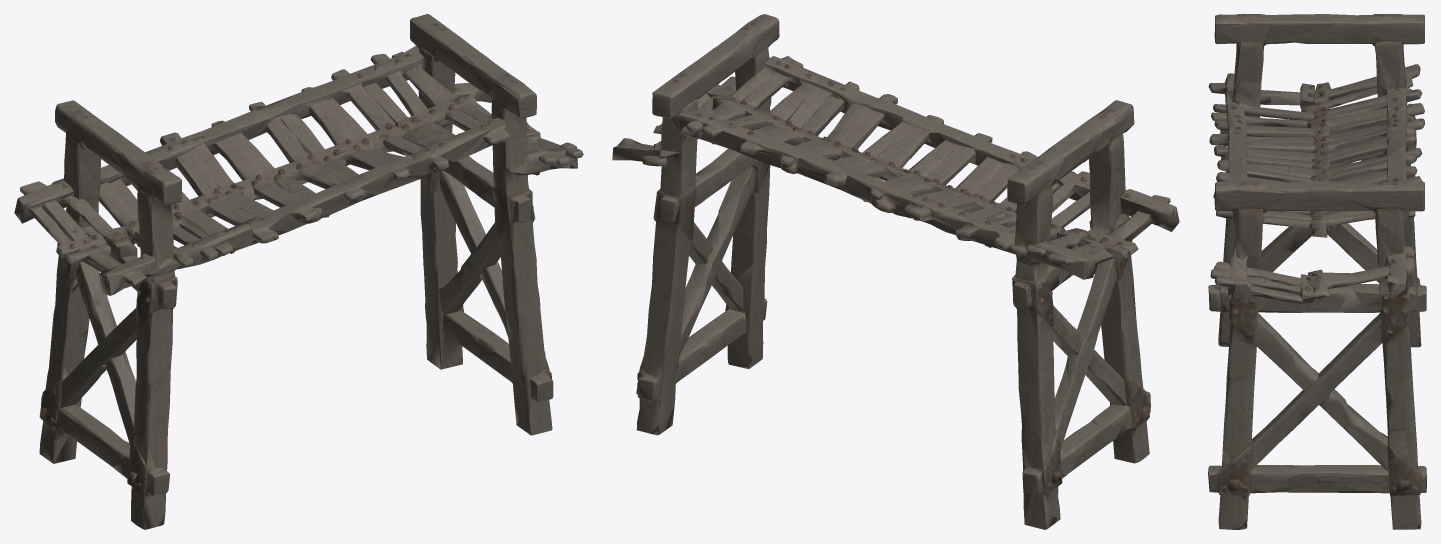
File: trestle_bent.glb
The picture shows the model from 3 angles, left to right: view 1: azimuth 30°, elevation 25°; view 2: azimuth 150°, elevation 25°; view 3: azimuth 270°, elevation 25°; orthographic projection. The views are drawn at different scales.
Parts seen in each view (by area): view 1: output_unwrapped; view 2: output_unwrapped; view 3: output_unwrapped.
Boxes of the visible parts, x1,y1,x2,y2 form: output_unwrapped: (14,14,583,529); output_unwrapped: (612,14,1179,529); output_unwrapped: (1208,14,1426,529).
Size of the model in its own units: 1.9 by 1.33 by 0.7878.
1 material, 1 textured.
